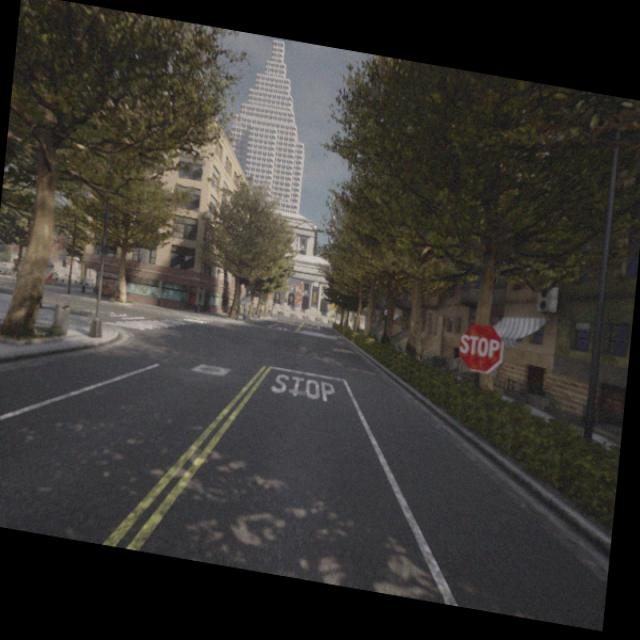stop sign: (456, 320, 505, 375), (459, 333, 501, 359)
